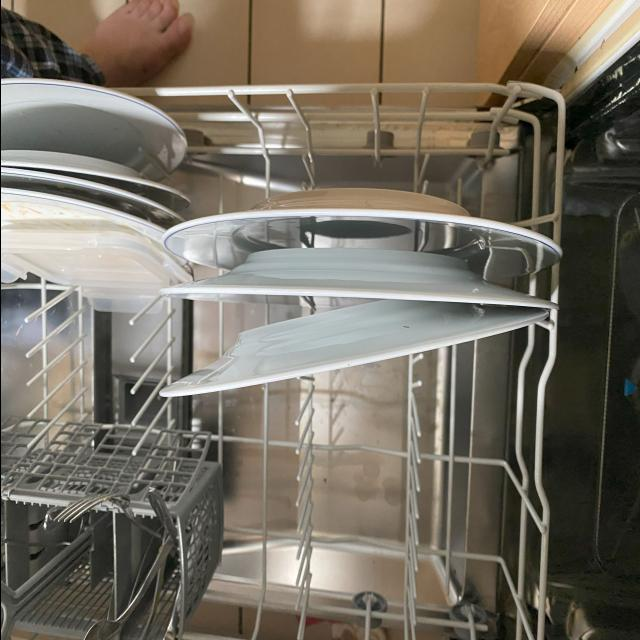clutery_bin: (8, 474, 191, 640)
empty_slot: (253, 392, 518, 640)
